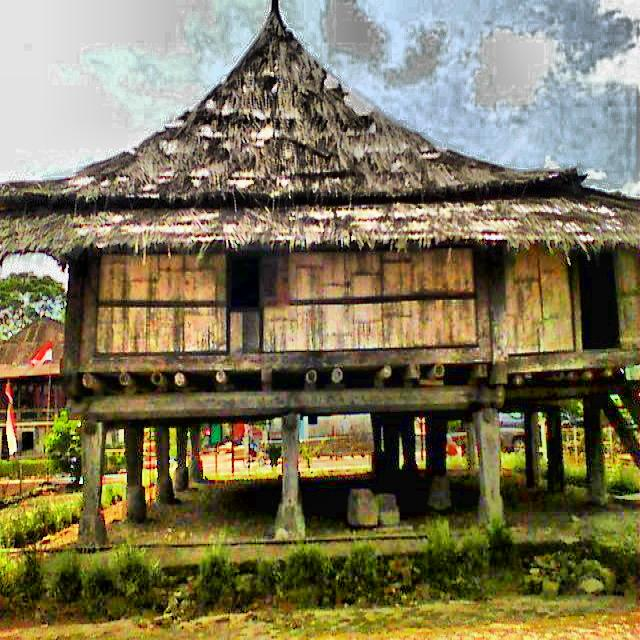column: (77, 422, 108, 546), (275, 415, 304, 539), (479, 409, 502, 524), (583, 399, 605, 496), (123, 428, 145, 521), (546, 412, 565, 492), (155, 427, 173, 501), (425, 415, 447, 472), (524, 412, 539, 489), (173, 428, 188, 490), (188, 427, 203, 481), (371, 413, 384, 472)
roof: (0, 0, 639, 270)
wall: (64, 244, 639, 377)
